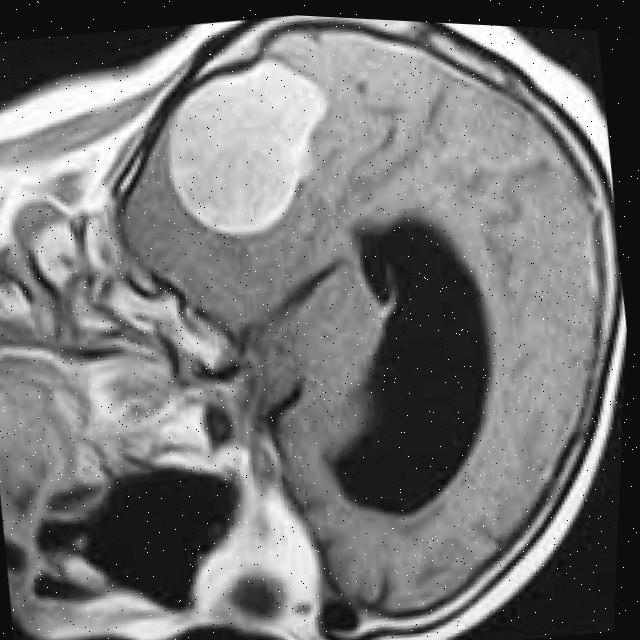Meningioma: (148, 43, 351, 253)
